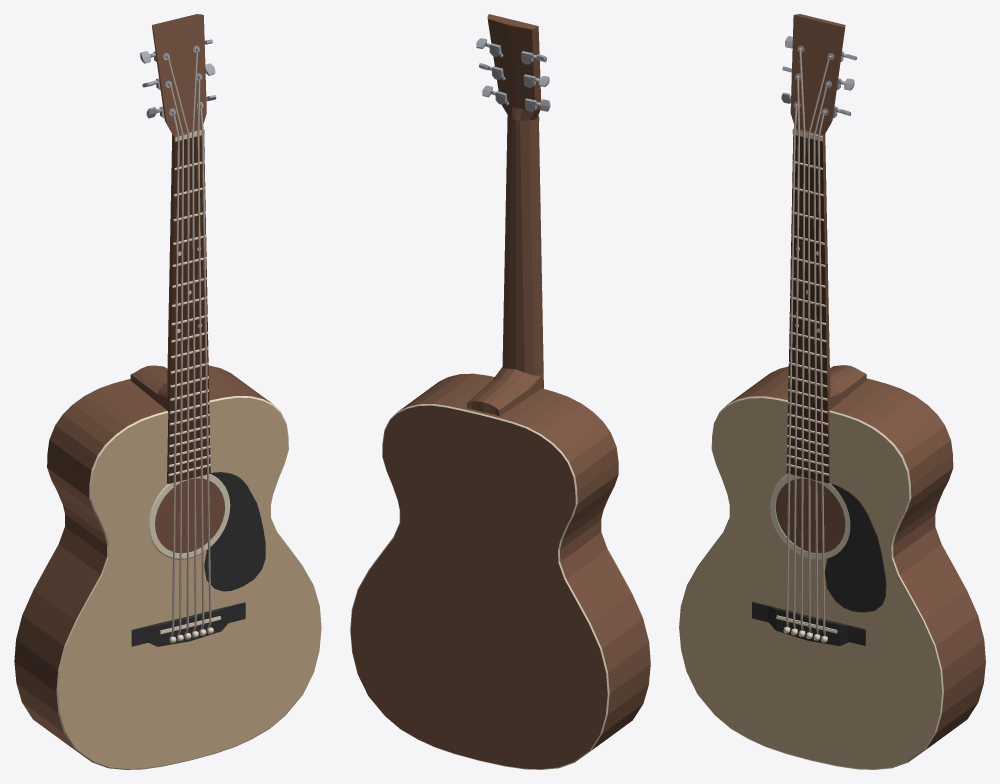
Rendered from guitar.glb.
The picture shows the model from 3 angles, left to right: view 1: azimuth 30°, elevation 25°; view 2: azimuth 150°, elevation 25°; view 3: azimuth 330°, elevation 25°; orthographic projection. The views are drawn at different scales.
Visible parts, largest first — view 1: Circle, Cube.002, Circle.007, Circle.001, Plane, Cube.004, Plane.019; view 2: Circle, Cube.002, Plane.019; view 3: Circle, Cube.002, Circle.007, Circle.001, Plane, Cube.004, Plane.019.
Boxes of the visible parts, x1,y1,x2,y2 form: Circle: (14,365,321,769); Cube.002: (130,14,210,483); Circle.007: (167,50,211,637); Circle.001: (204,472,265,591); Plane: (131,602,245,646); Cube.004: (168,161,210,476); Plane.019: (140,39,216,118); Circle: (350,373,650,769); Cube.002: (467,14,543,416); Plane.019: (476,38,550,111); Circle: (679,366,985,769); Cube.002: (786,14,866,483); Circle.007: (786,50,829,636); Circle.001: (824,483,886,612); Plane: (752,601,865,645); Cube.004: (786,161,828,475); Plane.019: (781,36,857,118).
Bounding box in the file's own units: 590 × 1559 × 187.
